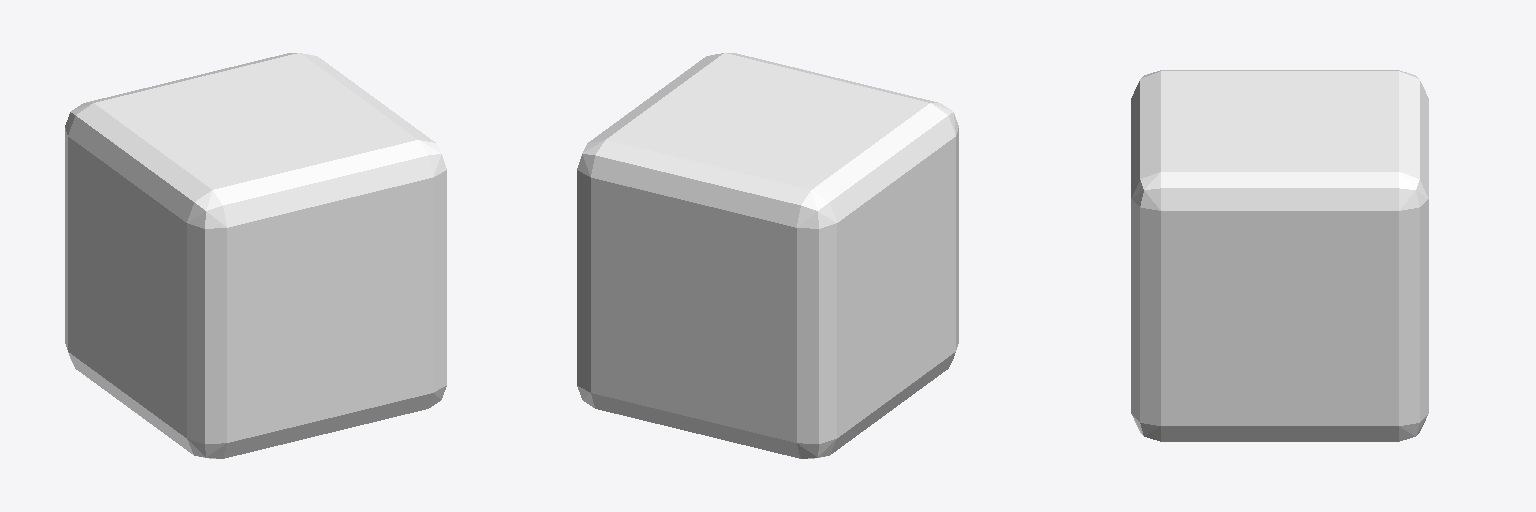
File: Dirt.obj
3 views of the same model, side by side, from view 1: azimuth 30°, elevation 25°; view 2: azimuth 150°, elevation 25°; view 3: azimuth 270°, elevation 25° (orthographic).
Visible parts, largest first — view 1: Dirt; view 2: Dirt; view 3: Dirt.
Part boxes in pixels (x1,y1,x2,y2): Dirt: (65,53,446,458); Dirt: (577,53,958,458); Dirt: (1131,70,1428,441).
Bounding box in the file's own units: 1 × 1 × 1.